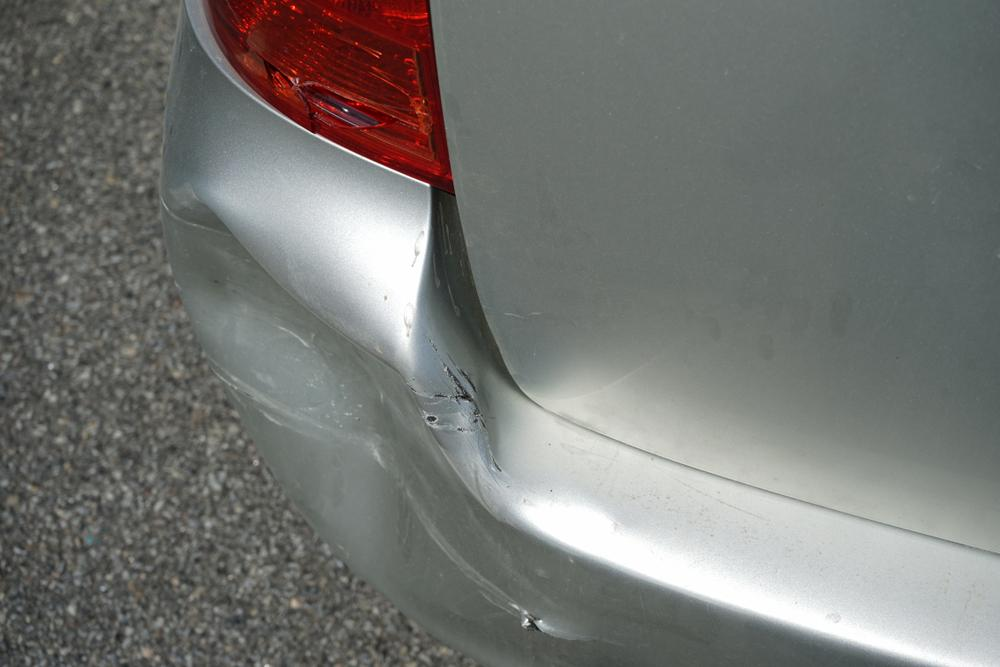dent: (173, 199, 444, 597)
lamp broken: (200, 0, 454, 194)
scratch: (403, 334, 509, 475)
